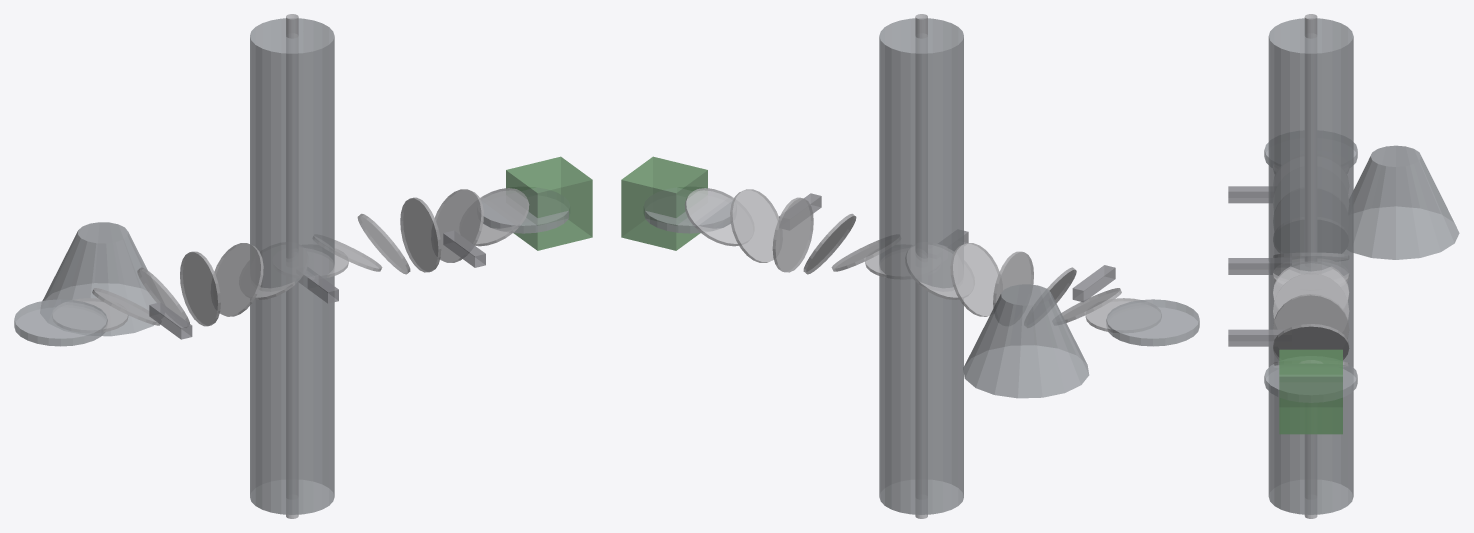
Rendered from screw_conveyor.glb.
3 renders of one model, left to right at view 1: azimuth 30°, elevation 25°; view 2: azimuth 150°, elevation 25°; view 3: azimuth 270°, elevation 25°, orthographic.
Visible parts, largest first — view 1: Trough, FeedHopper, Shaft, Motor, EndPlate_-6.3, Flight_4, EndPlate_6.3, Flight_3, Flight_9, Flight_10, Flight_11, Flight_0 (+9 smaller); view 2: Trough, FeedHopper, Shaft, Motor, EndPlate_-6.3, Flight_4, Flight_10, EndPlate_6.3, Flight_9, Flight_11, Flight_0, Flight_5 (+6 smaller); view 3: Trough, FeedHopper, Motor, Shaft, EndPlate_6.3, Flight_9, Flight_10, Flight_8, Flight_7, Leg_0, Leg_4, Leg_-4 (+2 smaller).
Part boxes in pixels (<box>): Trough: <box>250,18,334,514</box>; FeedHopper: <box>42,222,156,336</box>; Shaft: <box>286,14,298,518</box>; Motor: <box>506,156,592,250</box>; EndPlate_-6.3: <box>14,299,107,346</box>; Flight_4: <box>214,243,263,316</box>; EndPlate_6.3: <box>480,187,569,233</box>; Flight_3: <box>180,251,220,326</box>; Flight_9: <box>400,197,441,272</box>; Flight_10: <box>435,189,483,262</box>; Flight_11: <box>475,188,529,246</box>; Flight_0: <box>52,298,128,332</box>; Trough: <box>879,18,963,514</box>; FeedHopper: <box>963,284,1089,398</box>; Shaft: <box>915,14,927,518</box>; Motor: <box>621,156,707,250</box>; EndPlate_-6.3: <box>1106,299,1199,346</box>; Flight_4: <box>950,243,999,316</box>; Flight_10: <box>730,189,778,262</box>; EndPlate_6.3: <box>644,187,733,233</box>; Flight_9: <box>772,197,813,272</box>; Flight_11: <box>684,188,738,246</box>; Flight_0: <box>1085,298,1161,332</box>; Flight_5: <box>905,242,959,299</box>; Trough: <box>1268,18,1353,514</box>; FeedHopper: <box>1353,145,1459,259</box>; Motor: <box>1279,349,1342,434</box>; Shaft: <box>1304,14,1317,518</box>; EndPlate_6.3: <box>1264,361,1357,402</box>; Flight_9: <box>1273,294,1349,339</box>; Flight_10: <box>1273,324,1349,360</box>; Flight_8: <box>1273,273,1349,320</box>; Flight_7: <box>1273,261,1349,301</box>; Leg_0: <box>1228,258,1291,274</box>; Leg_4: <box>1228,329,1284,346</box>; Leg_-4: <box>1228,186,1268,203</box>.
Bounding box in the file's own units: 15.15 × 13 × 5.45.
